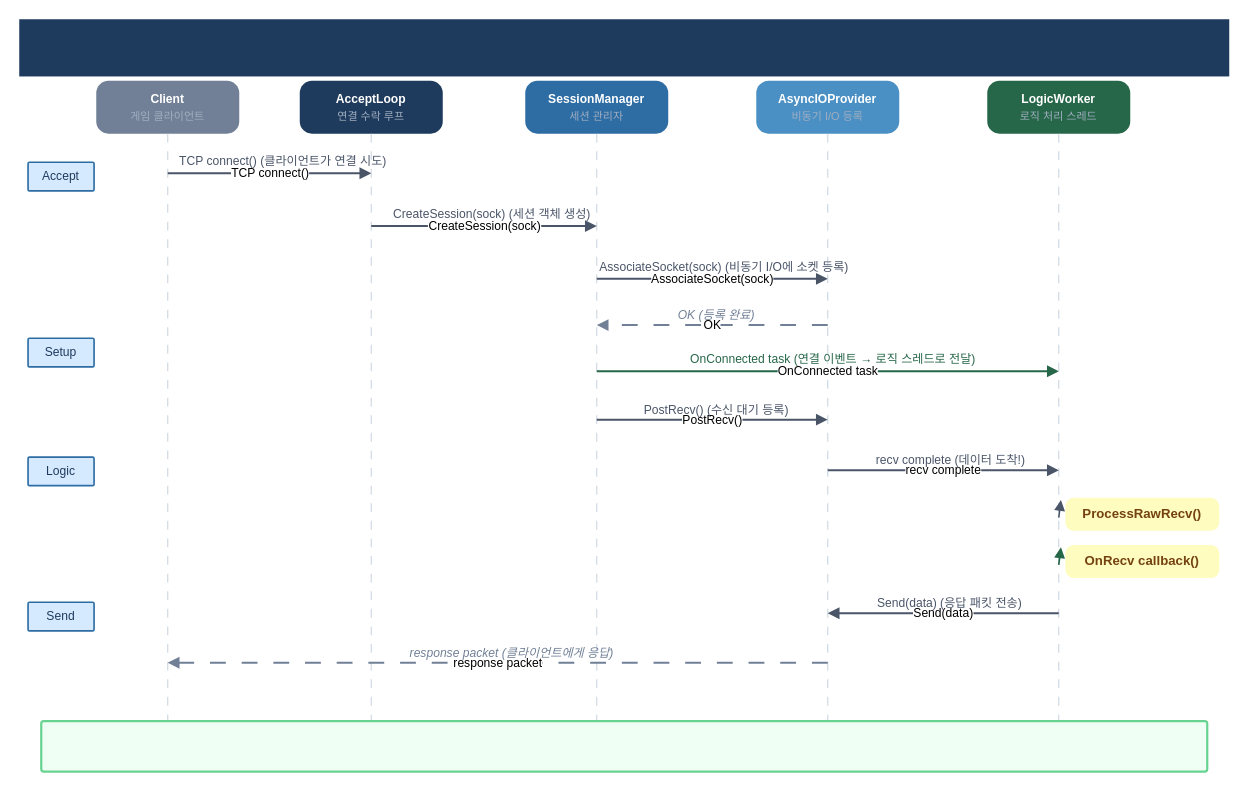
Some shapes in this 1247 by 791 pixel diagram are drawn without their labels. The shapes that lost their labels are listed below. From the top down, each one's centre as x and y in pixels, then its label:
At (x=624, y=47): "Connection Establishment & Packet Flow".
At (x=624, y=745): "✅ 핵심 포인트: 연결 수락부터 응답까지, 각 담당자가 자기 역할만 합니다. I/O와 로직은 서로 다른 스레드에서 실행됩니다.".
